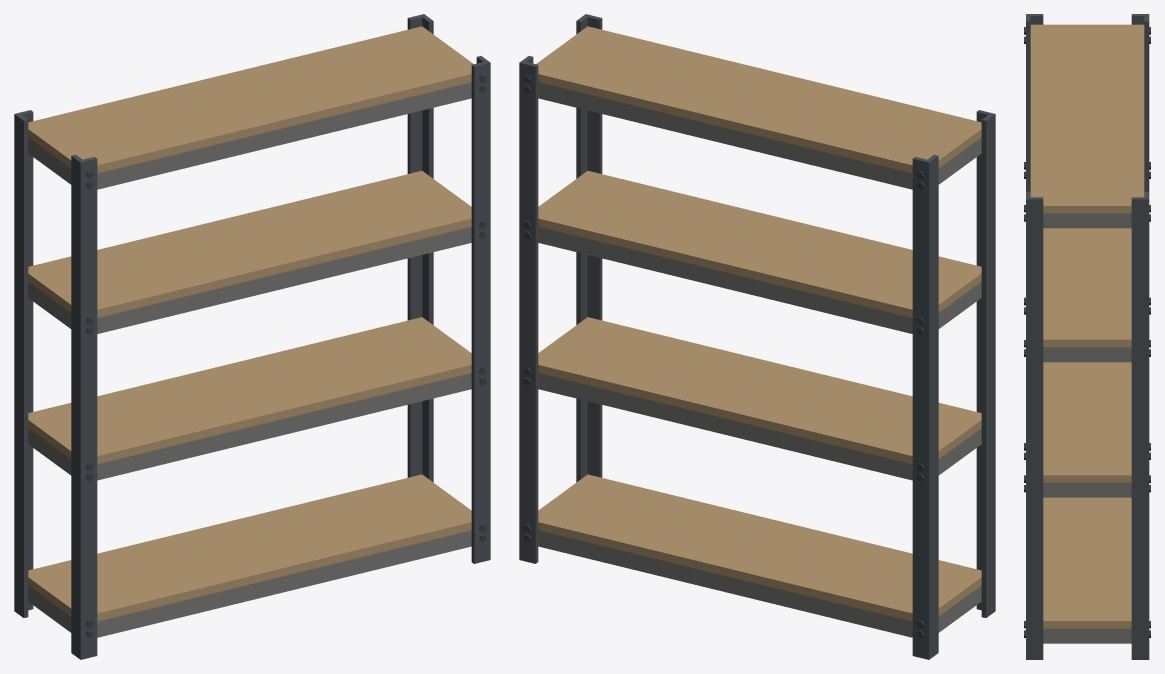
The model's file is SM_Prop_Shelves_Tall_01.fbx.
3 renders of one model, left to right at view 1: azimuth 30°, elevation 25°; view 2: azimuth 150°, elevation 25°; view 3: azimuth 270°, elevation 25°, orthographic. The views are drawn at different scales.
Parts seen in each view (by area): view 1: SM_Prop_Shelves_Tall_01; view 2: SM_Prop_Shelves_Tall_01; view 3: SM_Prop_Shelves_Tall_01.
Boxes of the visible parts, x1=… form: SM_Prop_Shelves_Tall_01: x1=14, y1=14, x2=490, y2=659; SM_Prop_Shelves_Tall_01: x1=519, y1=14, x2=995, y2=659; SM_Prop_Shelves_Tall_01: x1=1024, y1=14, x2=1150, y2=659.
Bounding box in the file's own units: 219 × 254 × 63.47.
